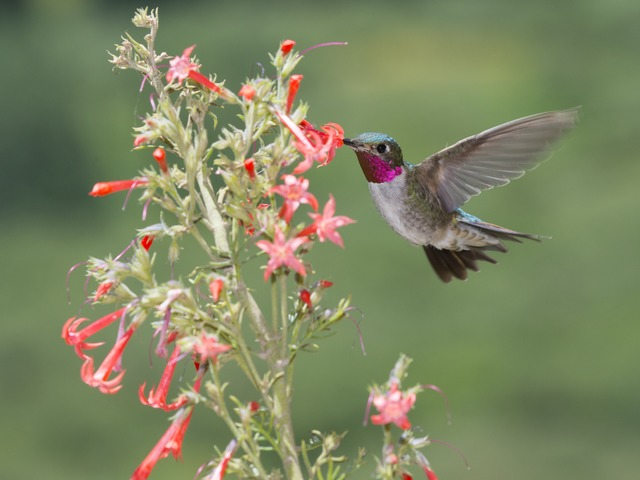selasphorus platycercus: (339, 105, 585, 282)
